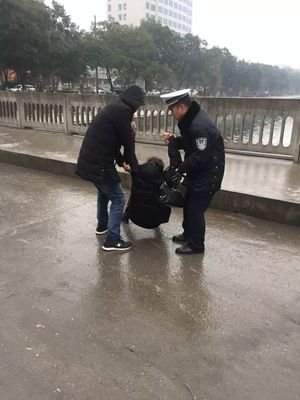fall: (113, 146, 185, 244)
